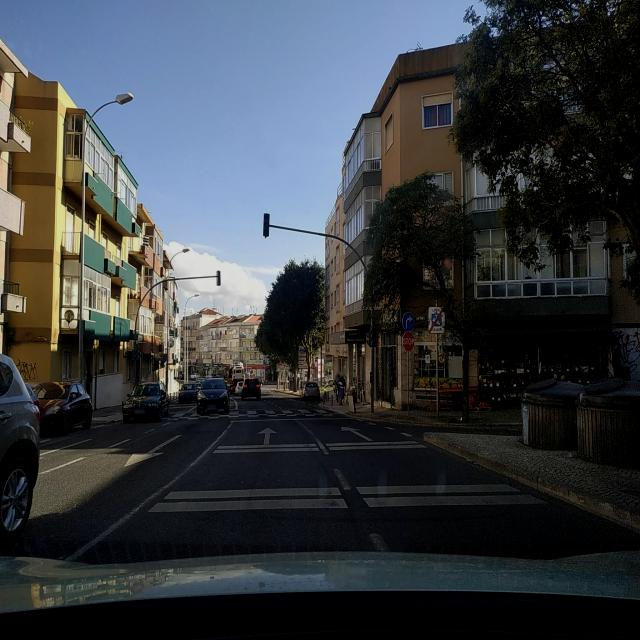car: (0, 346, 40, 551), (36, 379, 93, 436), (122, 381, 169, 424), (196, 376, 230, 416), (240, 376, 262, 401), (178, 382, 199, 404), (24, 381, 46, 400), (301, 381, 321, 401), (233, 378, 244, 394)
